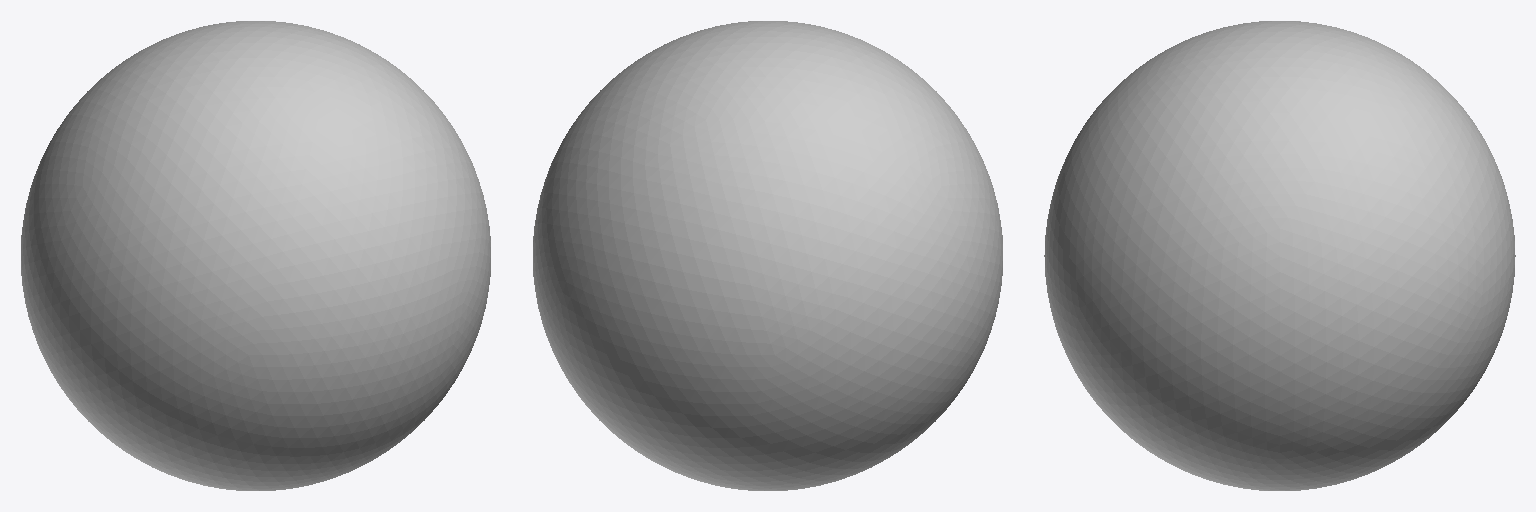
The model's file is inverted_sphere.obj.
The picture shows the model from 3 angles: view 1: azimuth 30°, elevation 25°; view 2: azimuth 150°, elevation 25°; view 3: azimuth 270°, elevation 25°; orthographic projection.
Size of the model in its own units: 2 by 2 by 2.